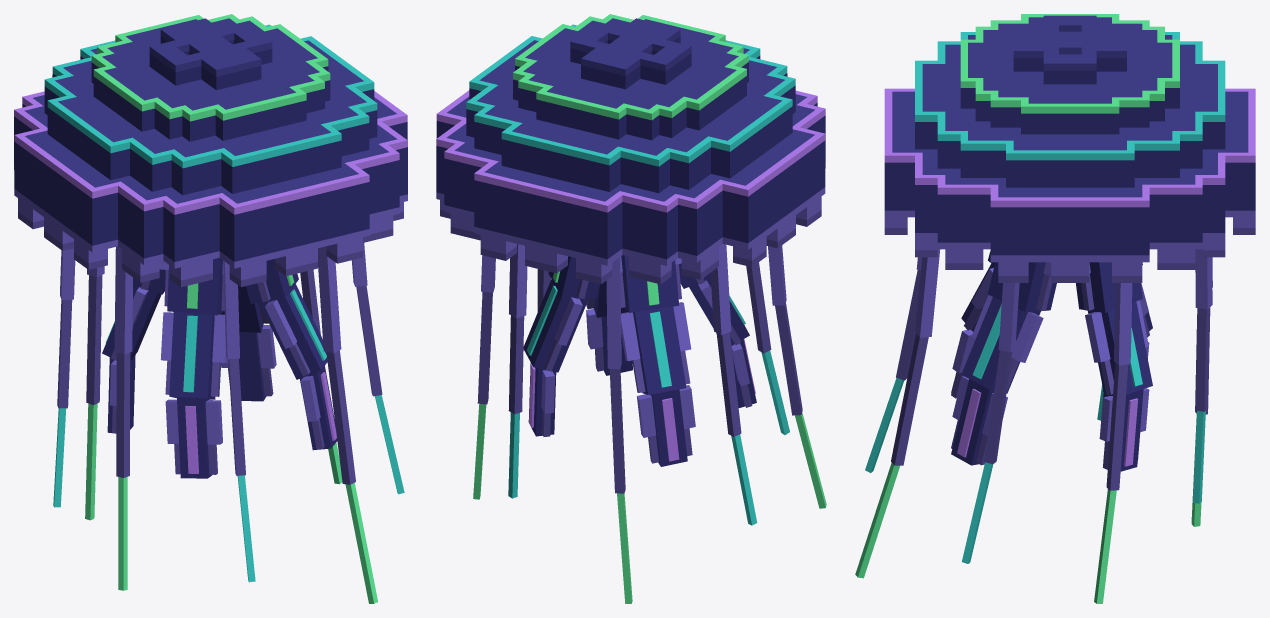
File: AuroraJelly.obj
3 views of the same model, side by side, from view 1: azimuth 30°, elevation 25°; view 2: azimuth 150°, elevation 25°; view 3: azimuth 270°, elevation 25° (orthographic). The views are drawn at different scales.
Visible parts, largest first — view 1: Bell, SkirtB, A4b, A4c, SkirtL, A1b, A2c, A4a, A1c, T1b, T1a, T5b (+18 smaller); view 2: Bell, SkirtF, A3b, A3c, SkirtL, A2b, A3a, A2c, T5a, T5b, T6b, T6a (+16 smaller); view 3: Bell, SkirtR, A1b, A2b, A1c, A2c, A1a, T1b, A2a, T3b, T2b, T1a (+14 smaller).
Part boxes in pixels (<box>): Bell: <box>14,14,407,261</box>; SkirtB: <box>163,207,399,287</box>; A4b: <box>160,312,227,399</box>; A4c: <box>165,397,222,478</box>; SkirtL: <box>14,163,163,282</box>; A1b: <box>259,284,327,379</box>; A2c: <box>221,325,276,401</box>; A4a: <box>159,258,224,315</box>; A1c: <box>300,366,337,450</box>; T1b: <box>326,350,355,484</box>; T1a: <box>318,246,341,353</box>; T5b: <box>86,275,102,404</box>; Bell: <box>436,14,825,259</box>; SkirtF: <box>444,205,677,284</box>; A3b: <box>621,302,691,394</box>; A3c: <box>637,385,695,466</box>; SkirtL: <box>678,162,825,279</box>; A2b: <box>523,279,588,372</box>; A3a: <box>620,255,681,312</box>; A2c: <box>528,363,556,436</box>; T5a: <box>606,257,621,369</box>; T5b: <box>609,368,625,493</box>; T6b: <box>716,332,741,436</box>; T6a: <box>710,244,731,334</box>; Bell: <box>884,14,1255,255</box>; SkirtR: <box>937,242,1202,282</box>; A1b: <box>961,295,1043,393</box>; A2b: <box>1085,300,1152,396</box>; A1c: <box>951,376,1007,465</box>; A2c: <box>1099,388,1149,471</box>; A1a: <box>988,262,1056,311</box>; T1b: <box>891,334,928,465</box>; A2a: <box>1076,262,1142,312</box>; T3b: <box>1106,363,1128,490</box>; T2b: <box>984,350,1012,464</box>; T1a: <box>915,249,940,337</box>.
Size of the model in its own units: 22.05 by 33.78 by 23.81.
1 material, 1 textured.
